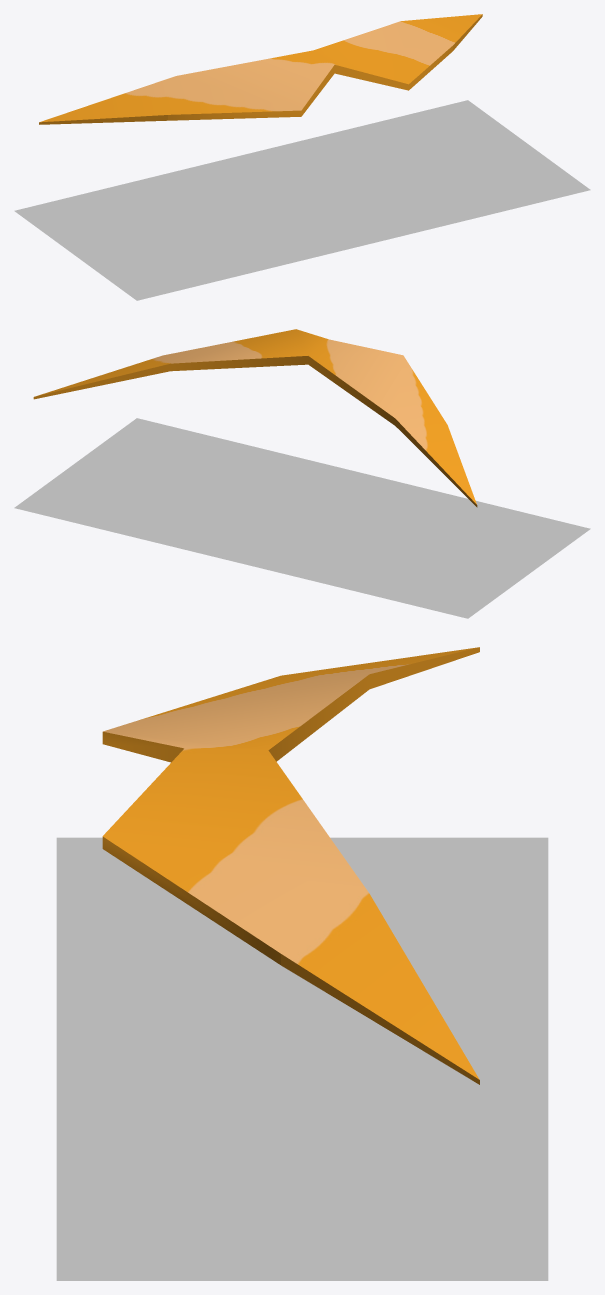
File: sunglasses.FBX
The picture shows the model from 3 angles, top to bottom: view 1: azimuth 30°, elevation 25°; view 2: azimuth 150°, elevation 25°; view 3: azimuth 270°, elevation 25°; orthographic projection. The views are drawn at different scales.
Parts seen in each view (by area): view 1: Plane001, Box001; view 2: Plane001, Box001; view 3: Plane001, Box001.
Part boxes in pixels (bbox=[...]): Plane001: bbox=[14, 100, 590, 300]; Box001: bbox=[39, 14, 482, 124]; Plane001: bbox=[14, 418, 590, 618]; Box001: bbox=[33, 329, 477, 507]; Plane001: bbox=[56, 837, 548, 1280]; Box001: bbox=[102, 647, 479, 1084].
Size of the model in its own units: 179 by 59.2 by 84.19.
